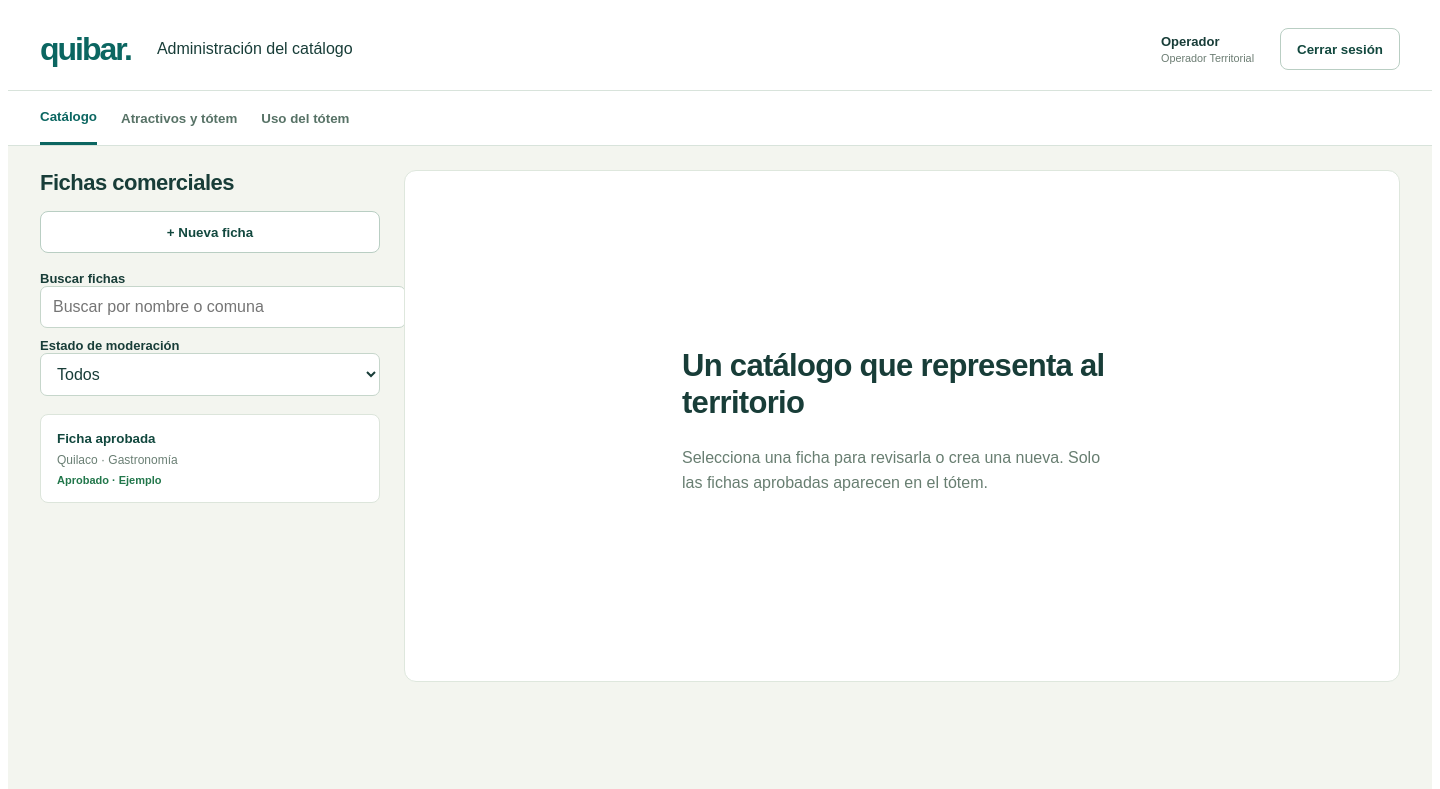
un operador guarda como pendiente y envía la protección CSRF
Step 1. Click the button "Ficha aprobada Quilaco · Gastronomía Aprobado · Ejemplo" → [106, 438], box x1=40 y1=414 x2=380 y2=503
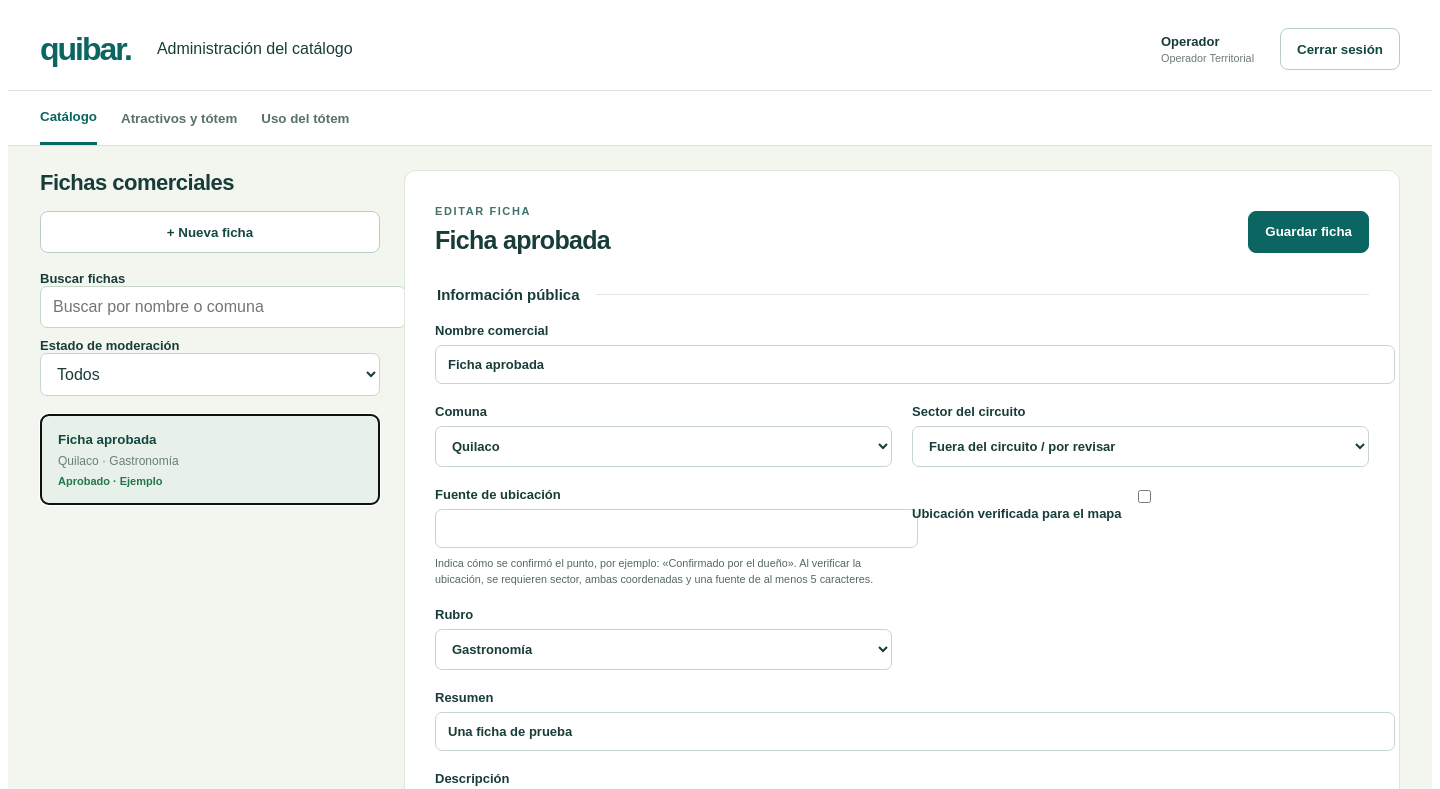
Step 2. Click the button "Guardar ficha" → [1309, 232], box x1=1248 y1=210 x2=1369 y2=252
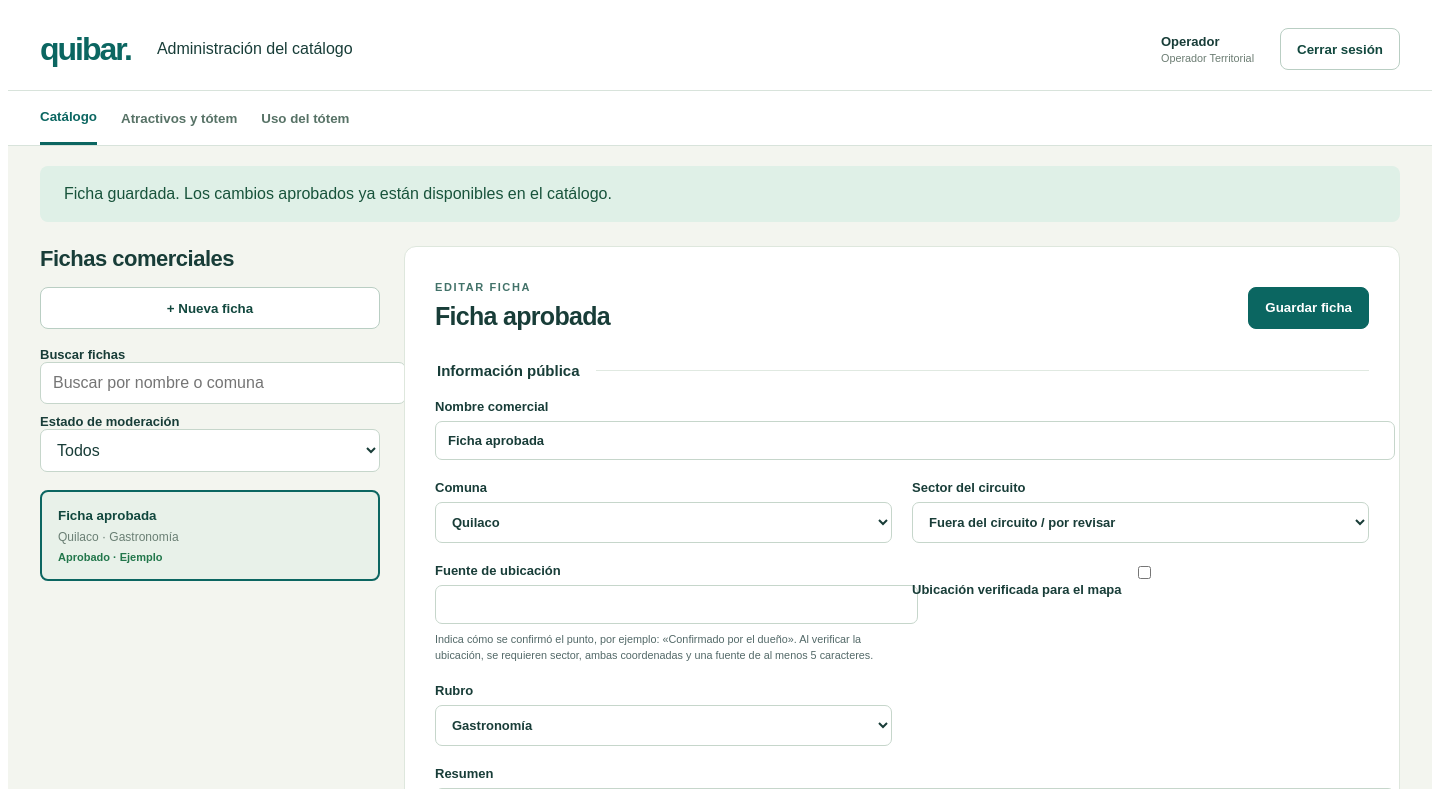
Expected: the text "Ficha guardada. Los cambios aprobados ya están disponibles en el catálogo." is shown, x1=40 y1=166 x2=1400 y2=222
